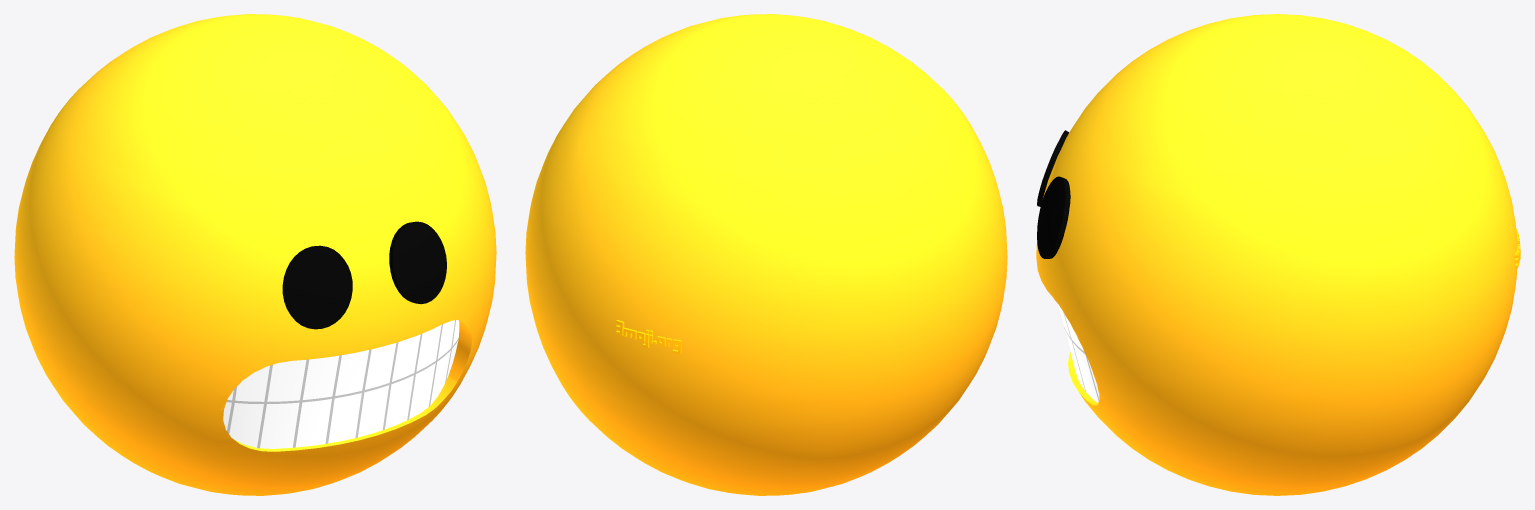
The model's file is grimacing_face.glb.
The picture shows the model from 3 angles, left to right: view 1: azimuth 30°, elevation 25°; view 2: azimuth 150°, elevation 25°; view 3: azimuth 270°, elevation 25°; orthographic projection.
Visible parts, largest first — view 1: Grimacing Face; view 2: Grimacing Face; view 3: Grimacing Face.
Part boxes in pixels (x1,y1,x2,y2): Grimacing Face: (14,14,496,495); Grimacing Face: (525,14,1007,495); Grimacing Face: (1036,14,1520,495).
Size of the model in its own units: 1.69 by 1.69 by 1.7.
Materials: 1 (1 with a texture image).
